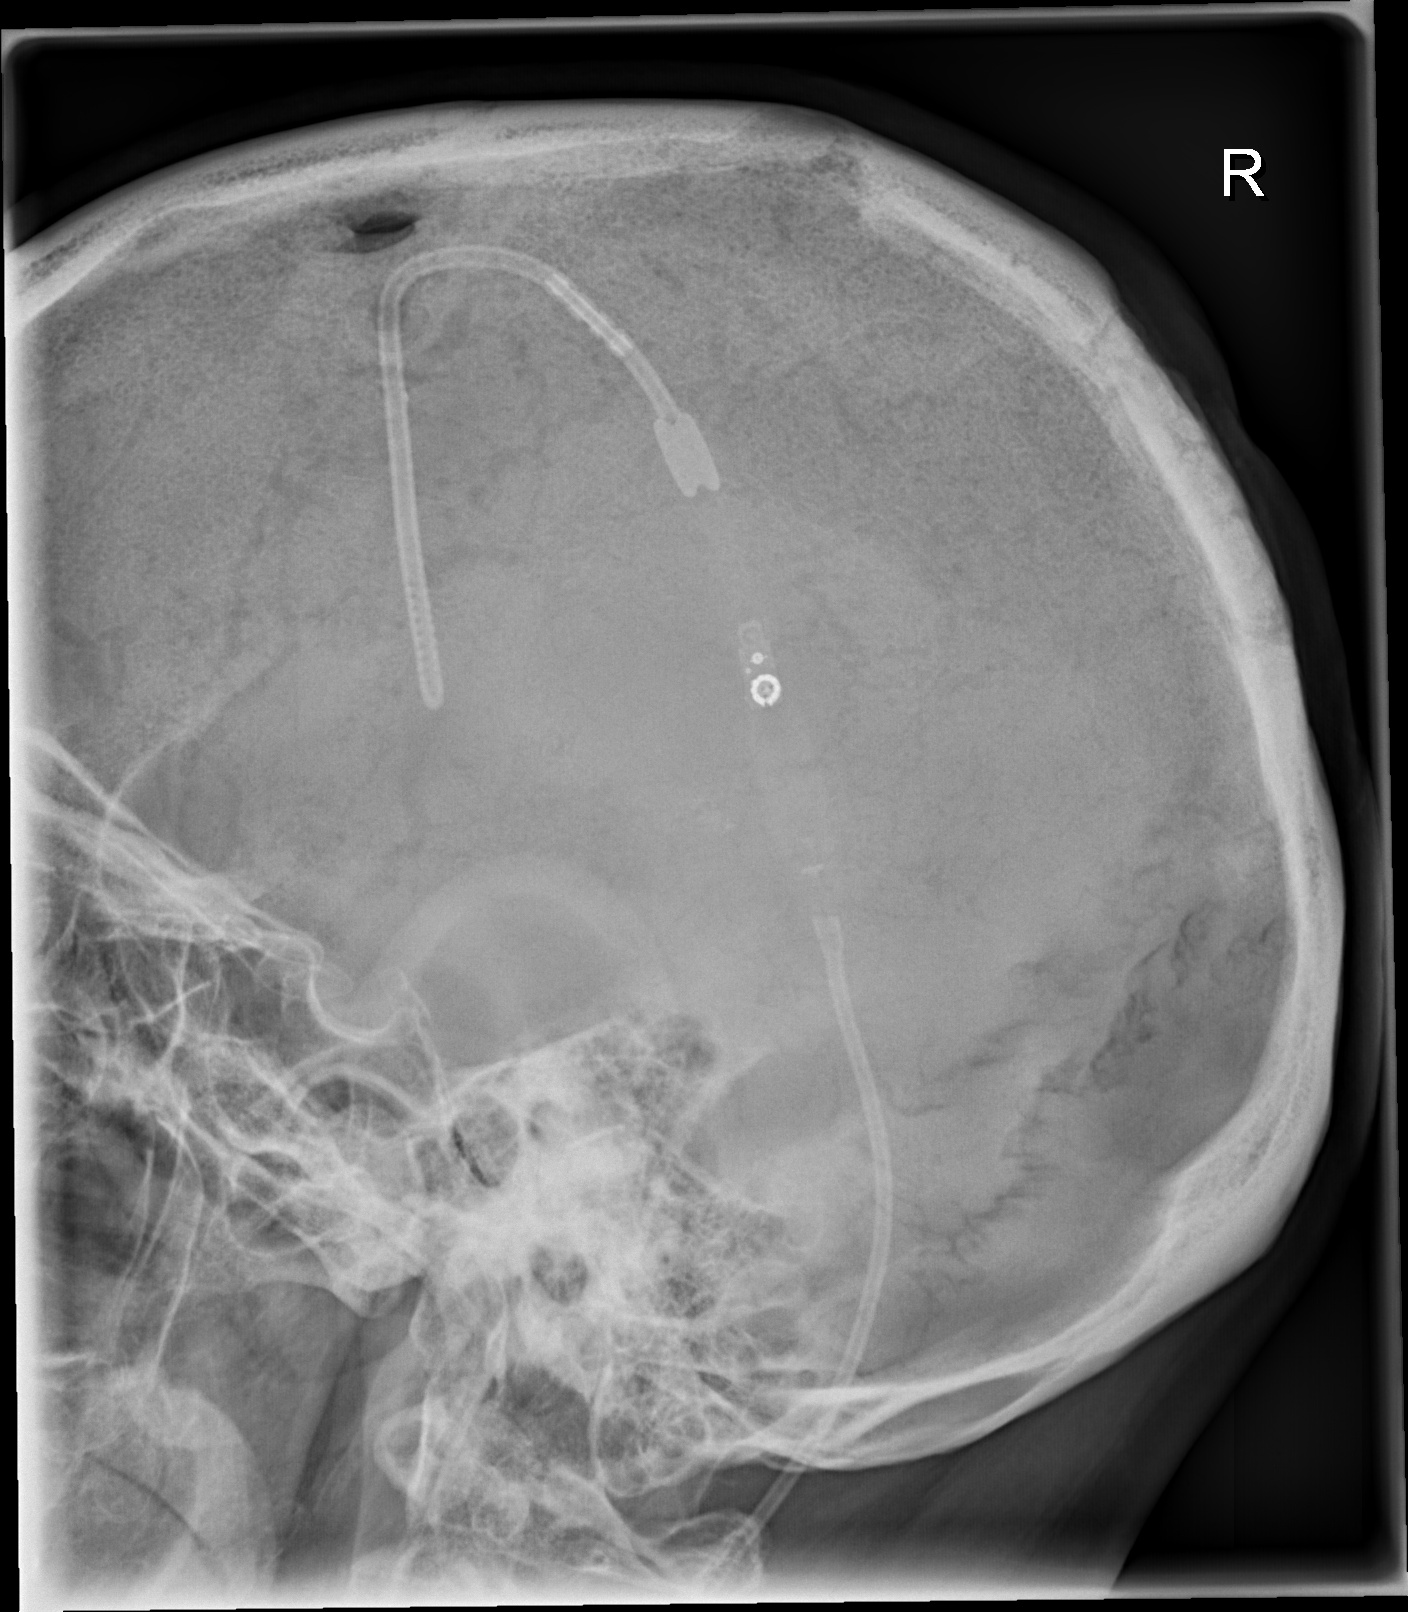Codman Hakim: (728, 636, 795, 725)
